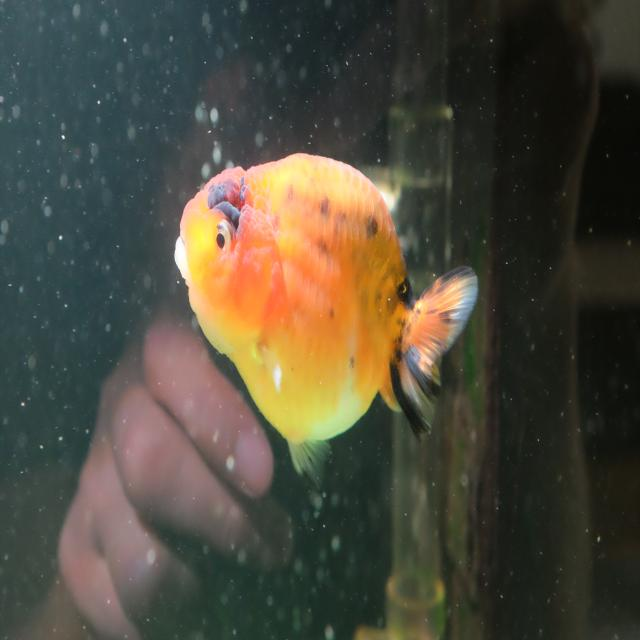Tilapia: (174, 152, 479, 492)
